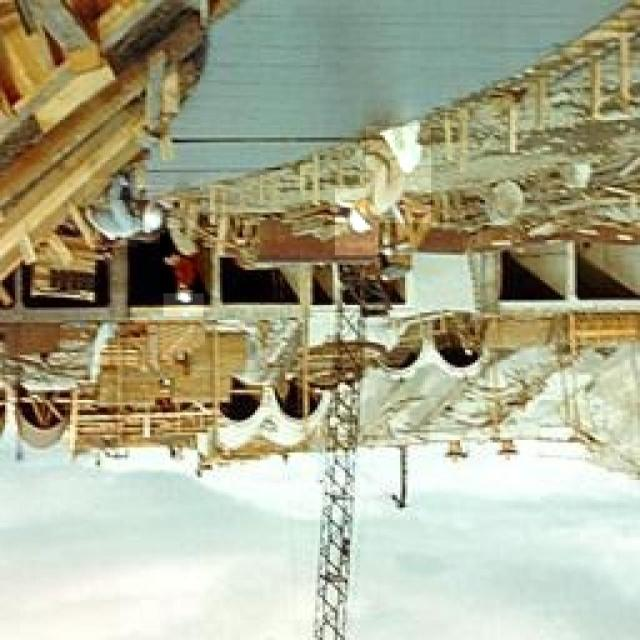Helmet: (366, 126, 431, 223), (86, 179, 138, 247), (160, 228, 210, 294), (335, 189, 379, 255), (135, 185, 173, 243), (164, 278, 204, 316)
